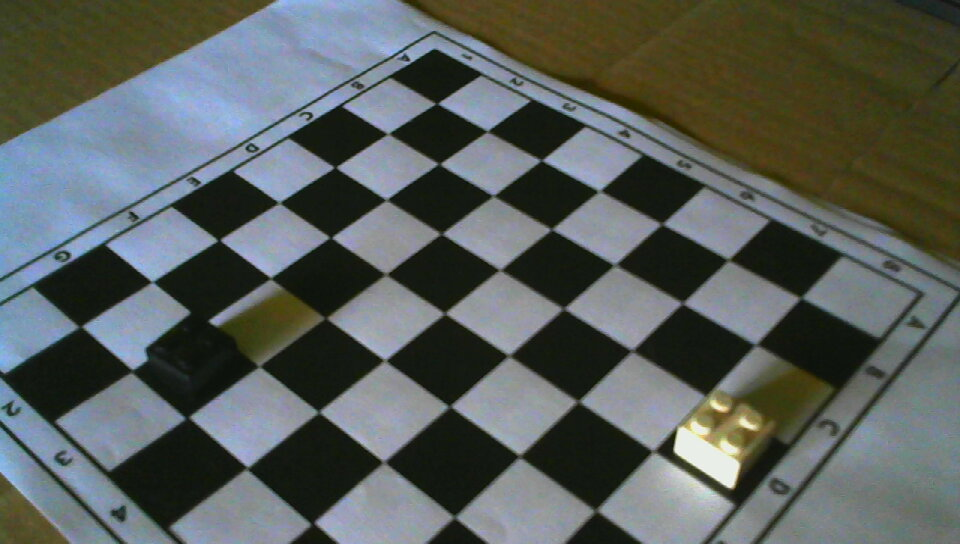bp: (144, 315, 238, 397)
wp: (676, 387, 776, 492)
